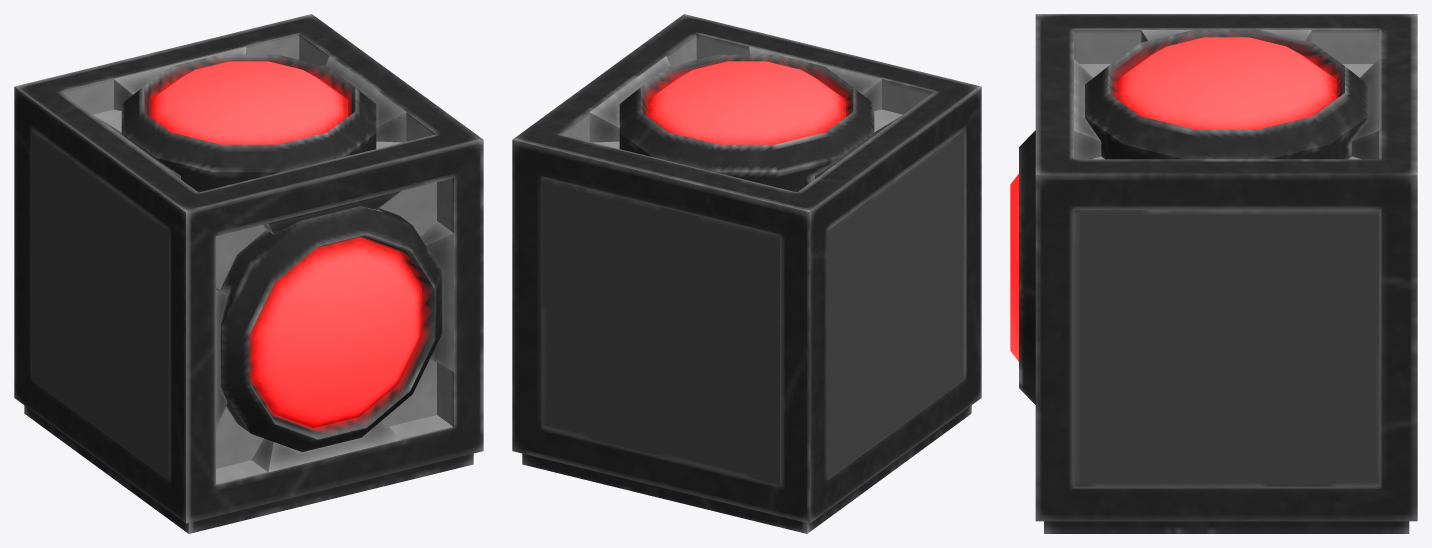
3 renders of one model, left to right at view 1: azimuth 30°, elevation 25°; view 2: azimuth 150°, elevation 25°; view 3: azimuth 270°, elevation 25°, orthographic. The views are drawn at different scales.
Visible parts, largest first — view 1: Cube90; view 2: Cube90; view 3: Cube90.
Part boxes in pixels (x1,y1,x2,y2): Cube90: [14, 14, 483, 533]; Cube90: [512, 14, 981, 533]; Cube90: [1010, 14, 1417, 533].
Bounding box in the file's own units: 0.6629 × 0.7377 × 0.7068.
